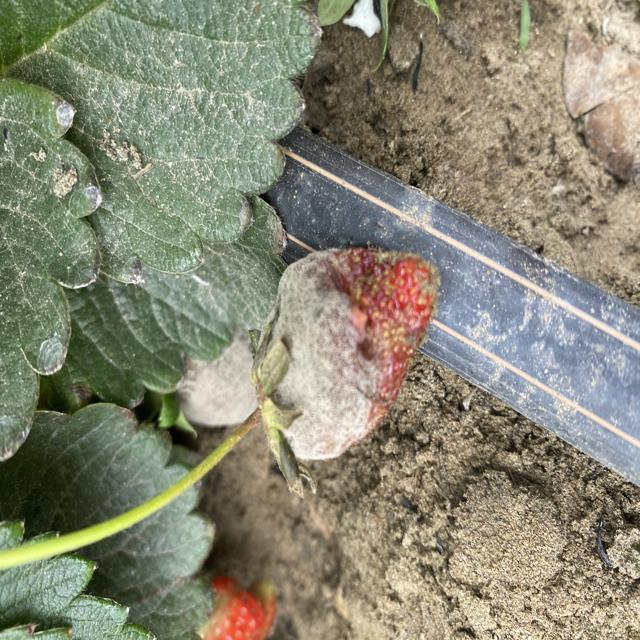Botrytis: (271, 246, 443, 463)
